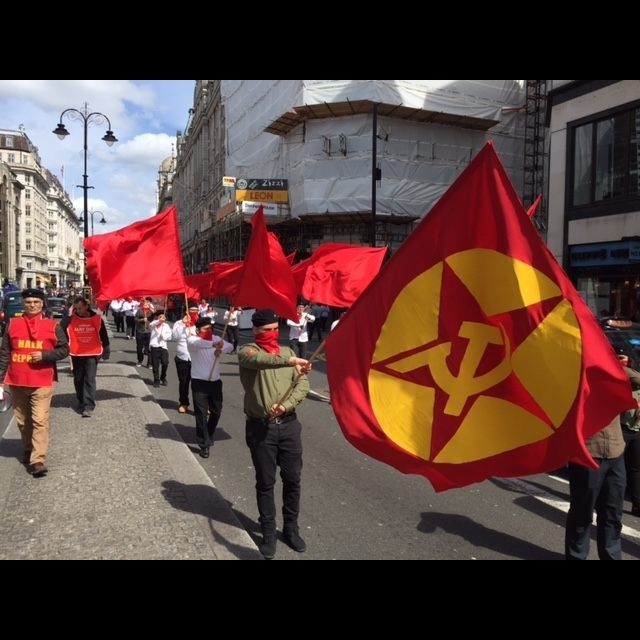DHKPC: (368, 247, 580, 465)
